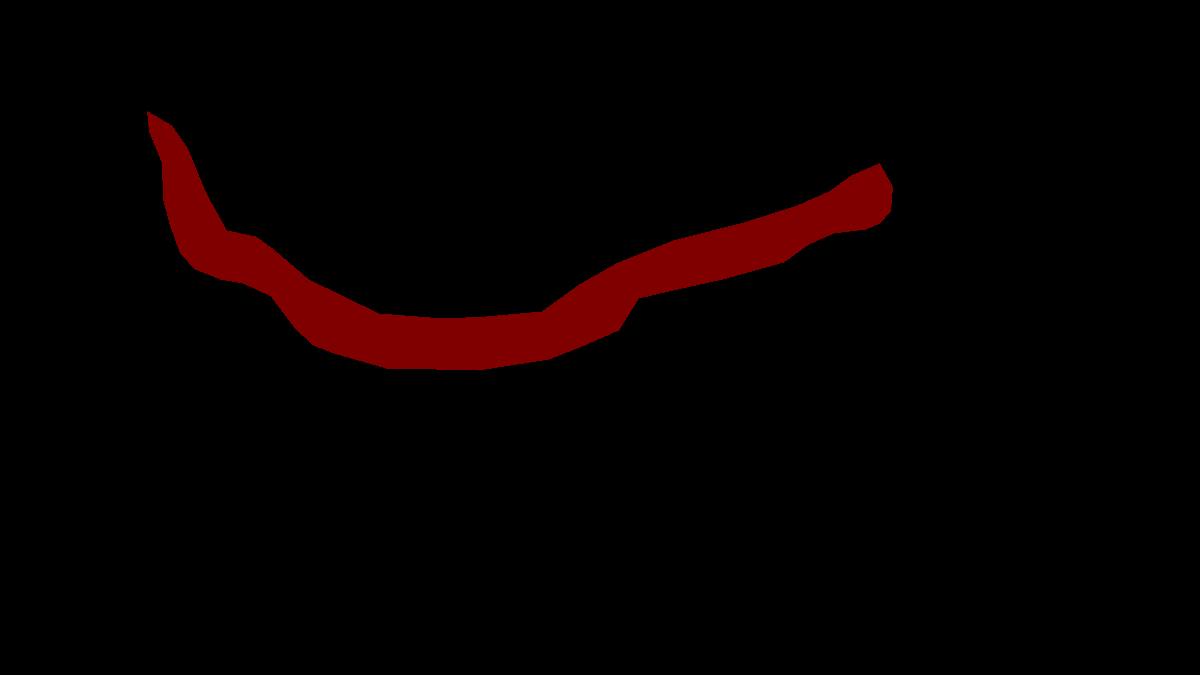fire: (147, 111, 892, 370)
